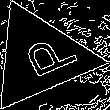P_SW: (6, 30, 74, 85)
